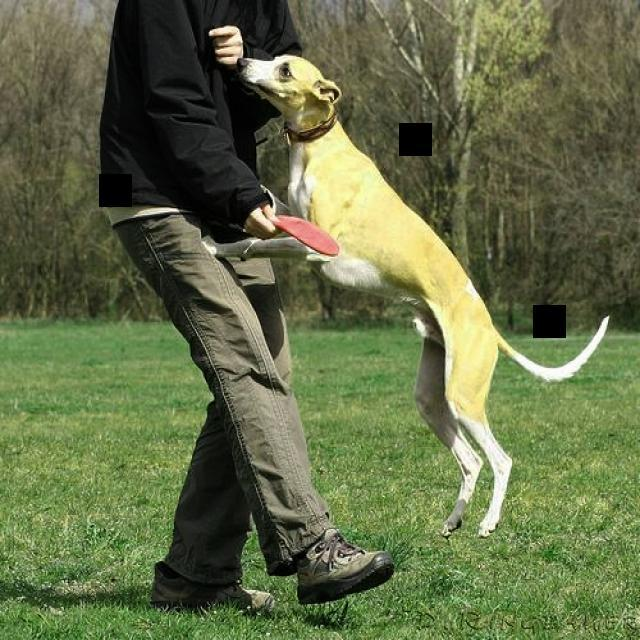adult_dog: (200, 54, 611, 541)
non-dog: (93, 0, 399, 614)
